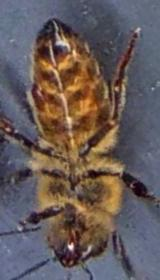varroa_mite: (26, 78, 47, 108)
